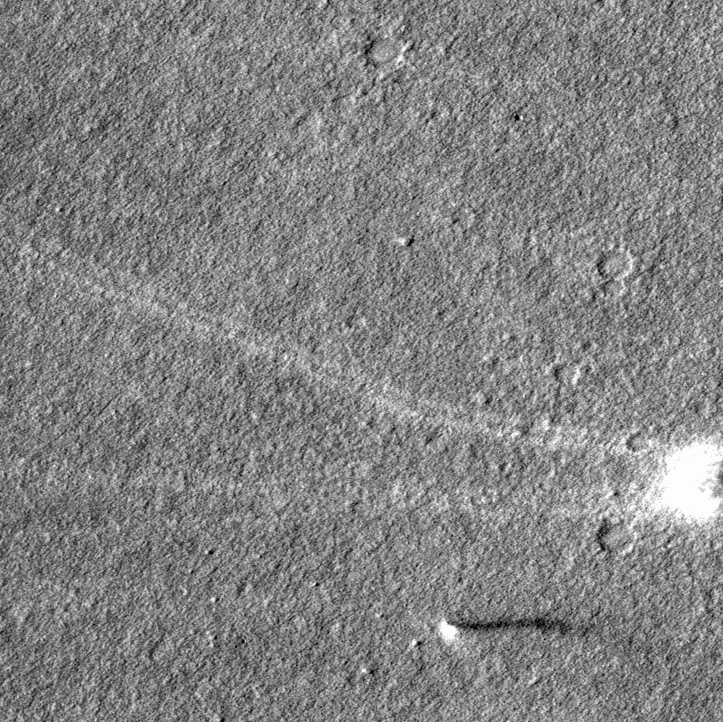dust_devil: (645, 437, 723, 528), (436, 613, 575, 645)
